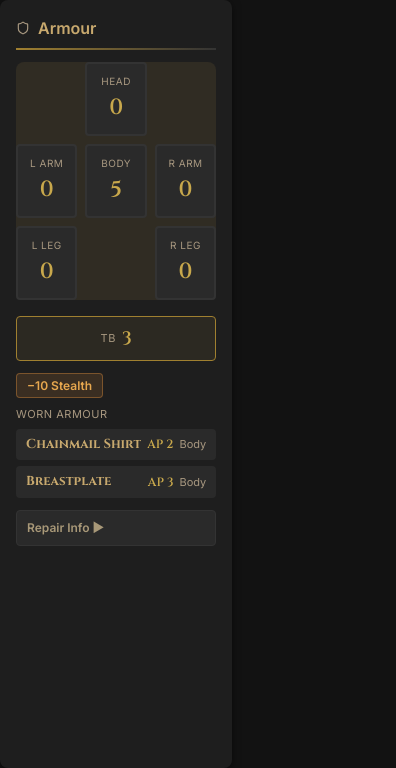
Test case: ArmourMap AP Tooltip Integration › shows tooltip with armour items and total when AP cell is clicked
This screenshot has width=396, height=768.
Step 1. Click the button named "Body AP 5" → [116, 190], box [110, 173, 122, 206]
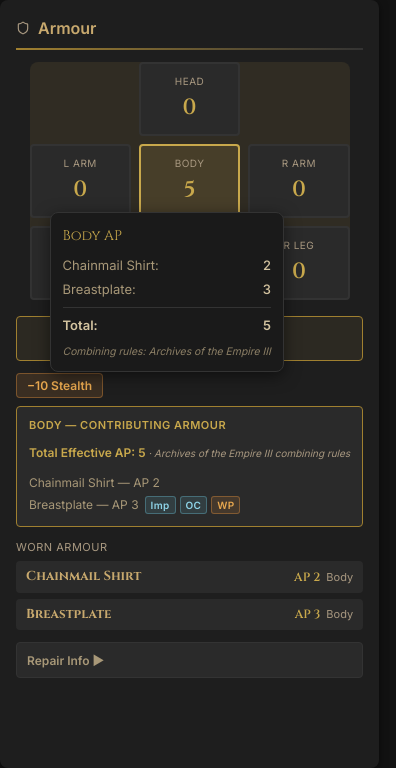
Expected: the tooltip is shown, [50, 212, 284, 372]
Expected: the tooltip shows "Chainmail Shirt", [62, 257, 155, 273]
Expected: the tooltip shows "Breastplate", [62, 280, 132, 296]
